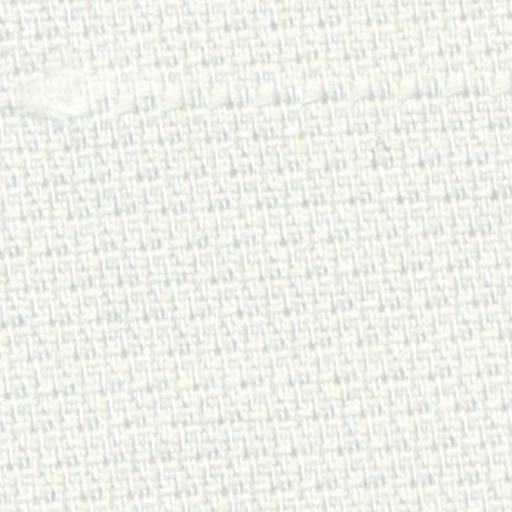DaiSha: (16, 64, 496, 126)
